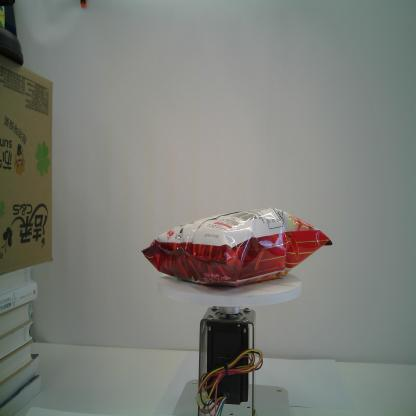Puffed Food: (141, 206, 333, 287)
